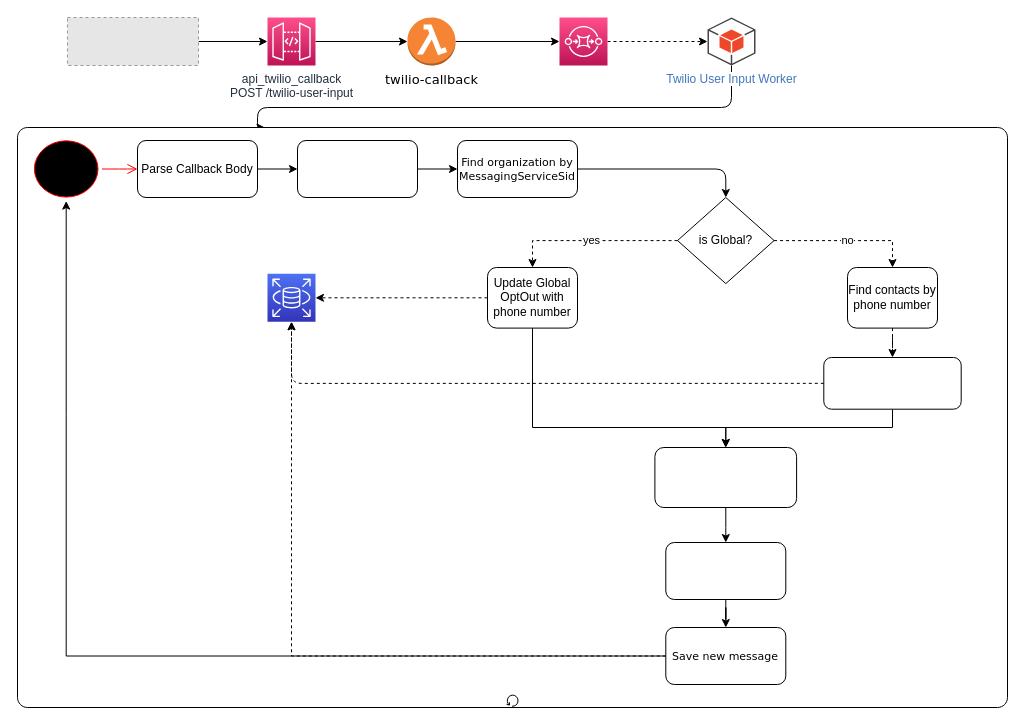
Some shapes in this 1025 by 725 pixel diagram are drawn without their labels. Grey dashed boxes stand in for pictures. The centre of each missing label's shape, as x and y in pixels:
"Find latest message with the same phone number and MessagingServiceSid" goes at [725,477].
"Get OptOut keyword from Message Body" goes at [357,169].
"Set source type (Trigger/Broadcast) and UUID for new message" goes at [725,571].
"twilio-user-input" goes at [583,41].
"Update Contact subscription status Active/Unsubscribed" goes at [892,382].
